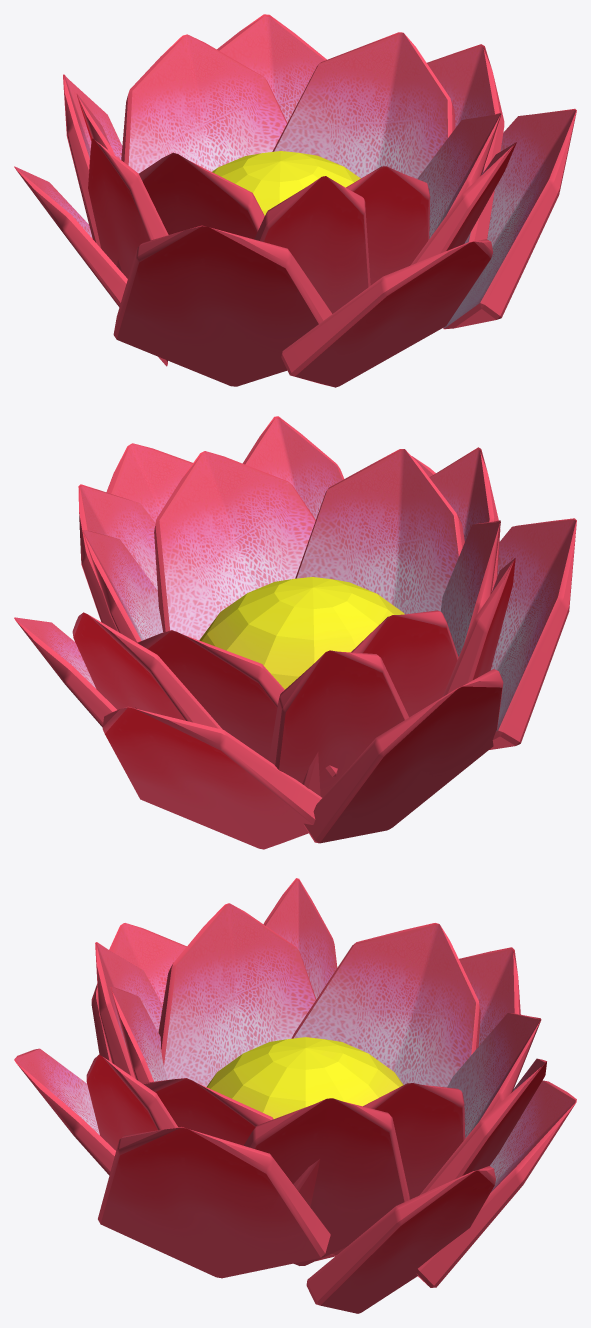
The model's file is flower.fbx.
3 renders of one model, top to bottom at view 1: azimuth 30°, elevation 25°; view 2: azimuth 150°, elevation 25°; view 3: azimuth 270°, elevation 25°, orthographic. The views are drawn at different scales.
Parts seen in each view (by area): view 1: pCylinder19, pCylinder11, pCylinder10, pCylinder20, pCylinder21, pCylinder13, pCylinder8, pCylinder7, pCylinder12, pCylinder16, pCylinder15, pCylinder5 (+5 smaller); view 2: pCylinder5, pCylinder7, pCylinder23, pCylinder18, pSphere1, pCylinder17, pCylinder19, pCylinder10, pCylinder16, pCylinder9, pCylinder15, pCylinder11 (+6 smaller); view 3: pCylinder21, pCylinder9, pCylinder8, pCylinder15, pCylinder22, pSphere1, pCylinder11, pCylinder23, pCylinder10, pCylinder14, pCylinder20, pCylinder5 (+6 smaller).
Part boxes in pixels (x1=…): pCylinder19: x1=113, y1=225, x2=331, y2=386; pCylinder11: x1=272, y1=32, x2=455, y2=178; pCylinder10: x1=121, y1=34, x2=287, y2=173; pCylinder20: x1=281, y1=239, x2=492, y2=387; pCylinder21: x1=443, y1=108, x2=576, y2=329; pCylinder13: x1=254, y1=176, x2=370, y2=313; pCylinder8: x1=116, y1=152, x2=264, y2=272; pCylinder7: x1=346, y1=166, x2=430, y2=285; pCylinder12: x1=88, y1=138, x2=168, y2=278; pCylinder16: x1=217, y1=14, x2=326, y2=122; pCylinder15: x1=427, y1=44, x2=504, y2=243; pCylinder5: x1=417, y1=113, x2=501, y2=238; pCylinder5: x1=154, y1=451, x2=315, y2=640; pCylinder7: x1=295, y1=449, x2=464, y2=614; pCylinder23: x1=102, y1=706, x2=321, y2=849; pCylinder18: x1=304, y1=669, x2=503, y2=843; pSphere1: x1=199, y1=577, x2=404, y2=689; pCylinder17: x1=268, y1=650, x2=408, y2=797; pCylinder19: x1=489, y1=518, x2=576, y2=749; pCylinder10: x1=135, y1=630, x2=337, y2=778; pCylinder16: x1=72, y1=612, x2=222, y2=729; pCylinder9: x1=302, y1=610, x2=458, y2=796; pCylinder15: x1=78, y1=484, x2=157, y2=631; pCylinder11: x1=82, y1=530, x2=163, y2=642; pCylinder21: x1=98, y1=1127, x2=330, y2=1278; pCylinder9: x1=291, y1=923, x2=480, y2=1087; pCylinder8: x1=158, y1=903, x2=316, y2=1086; pCylinder15: x1=244, y1=1098, x2=409, y2=1265; pCylinder22: x1=306, y1=1166, x2=495, y2=1313; pSphere1: x1=206, y1=1037, x2=403, y2=1118; pCylinder11: x1=293, y1=1083, x2=465, y2=1255; pCylinder23: x1=416, y1=1080, x2=576, y2=1287; pCylinder10: x1=447, y1=1013, x2=541, y2=1138; pCylinder14: x1=86, y1=1055, x2=177, y2=1150; pCylinder20: x1=14, y1=1048, x2=115, y2=1175; pCylinder5: x1=142, y1=1078, x2=273, y2=1145.
Size of the model in its own units: 3.82 by 2.38 by 4.12.
Materials: 1 (1 with a texture image).
